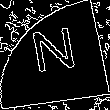N_S: (28, 27, 82, 83)
